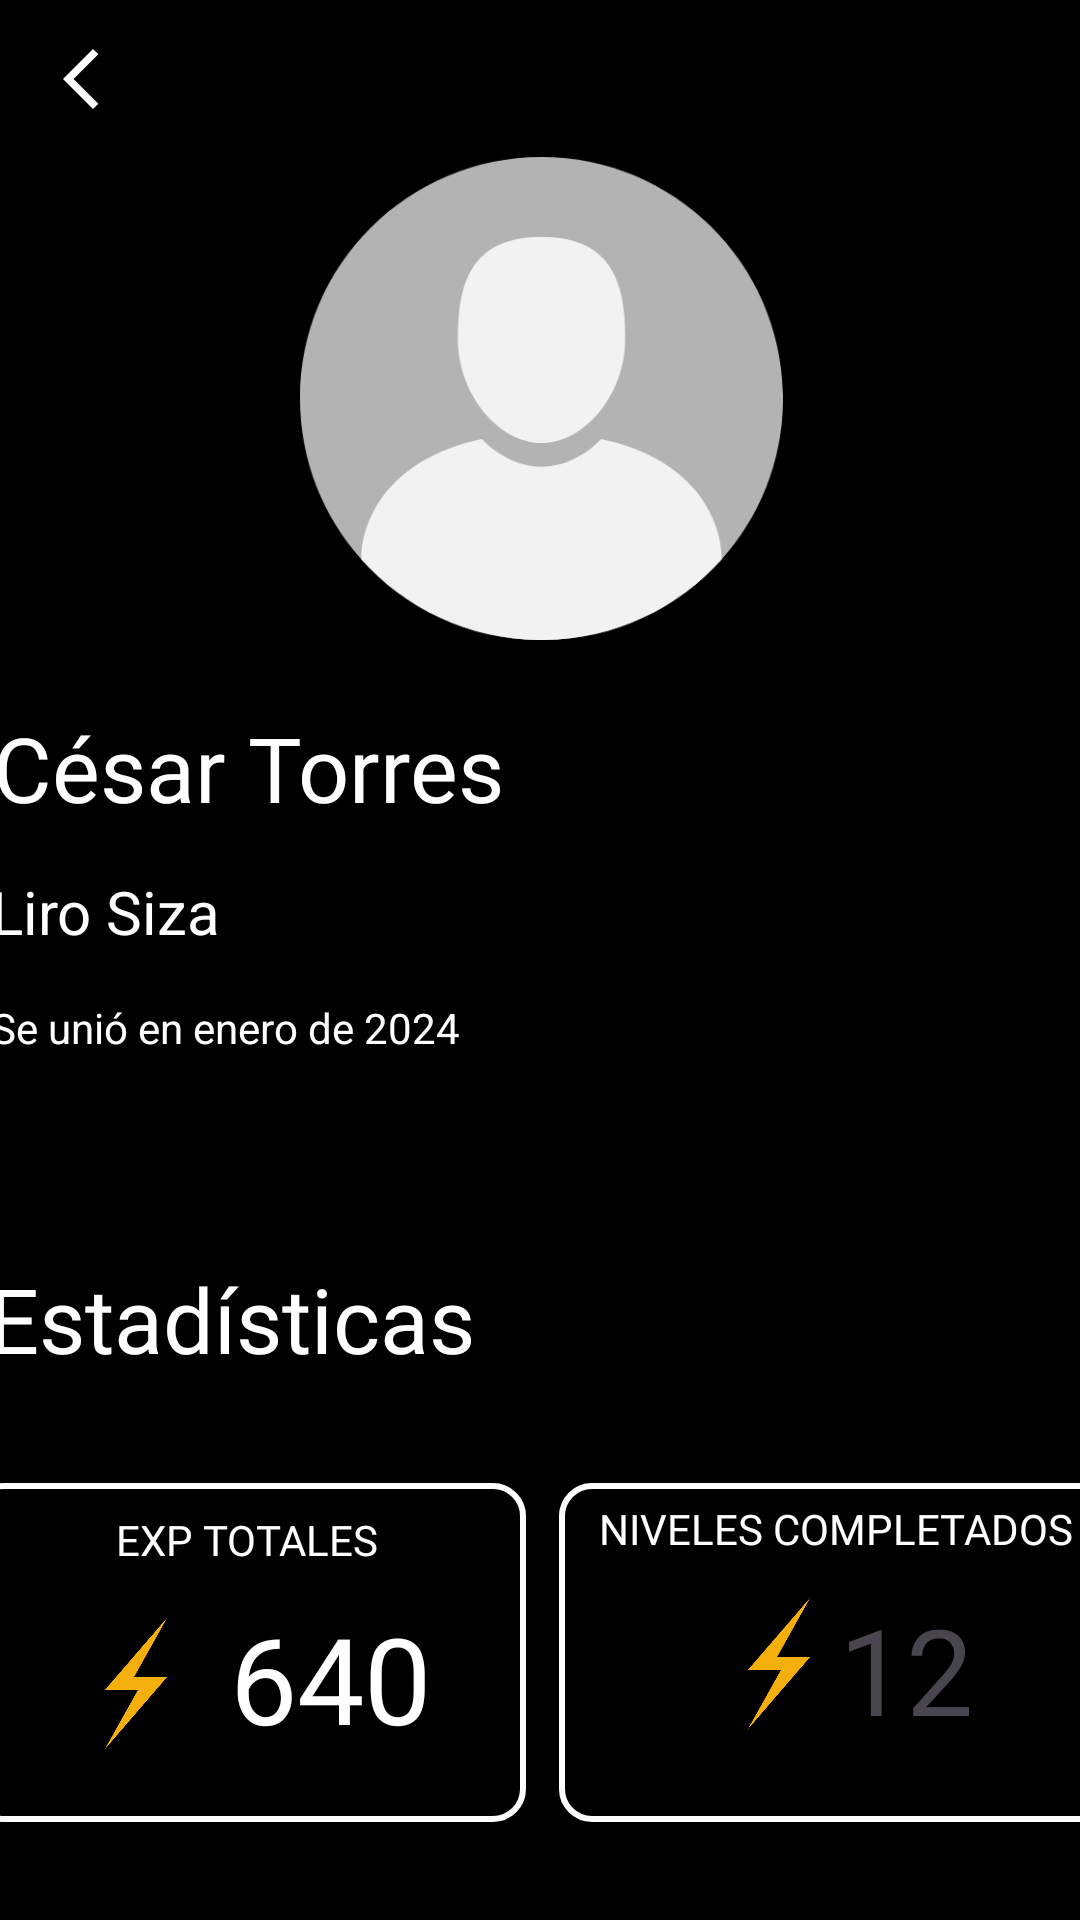

Screen size 1080 x 1920. Icon name, then its center in pixels as (x,y):
arrow back: (80,79)
lightning: (779,1663), (136,1683)
